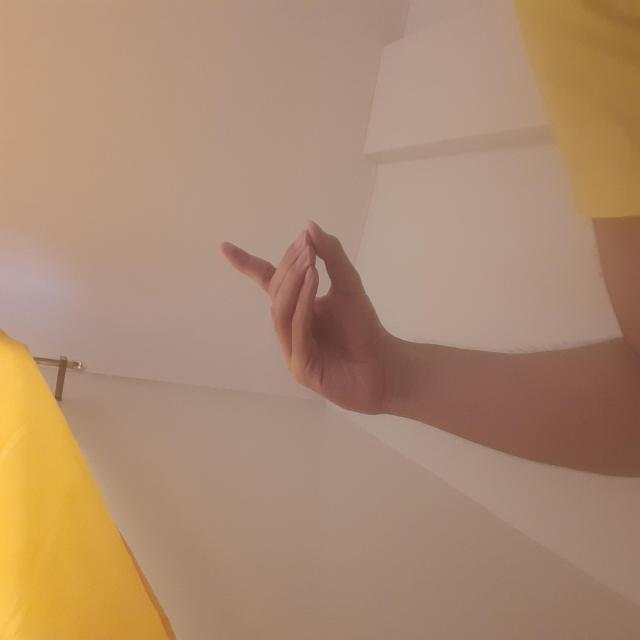D: (224, 218, 417, 384)
